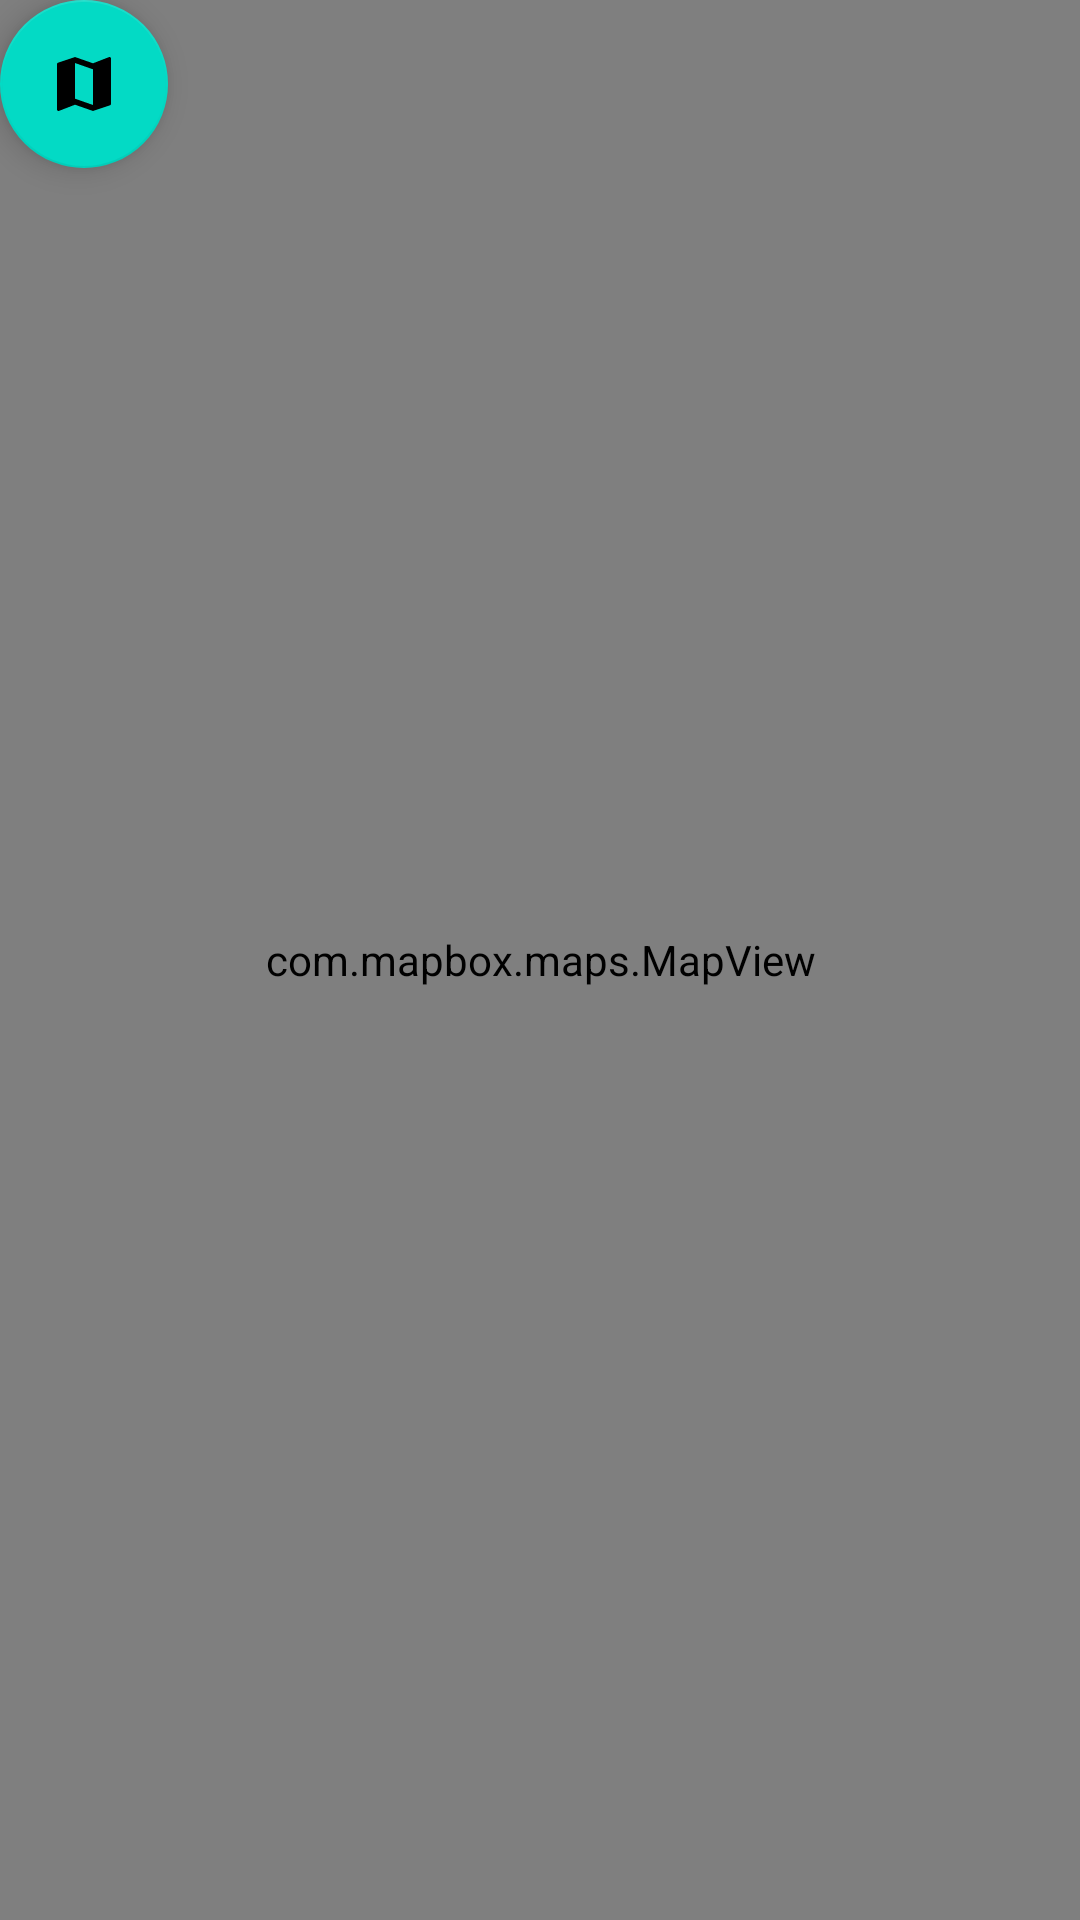

Point at icon controls on the screen. Image size 1080px x 1920px, points as [x,y].
map: [84,84]
